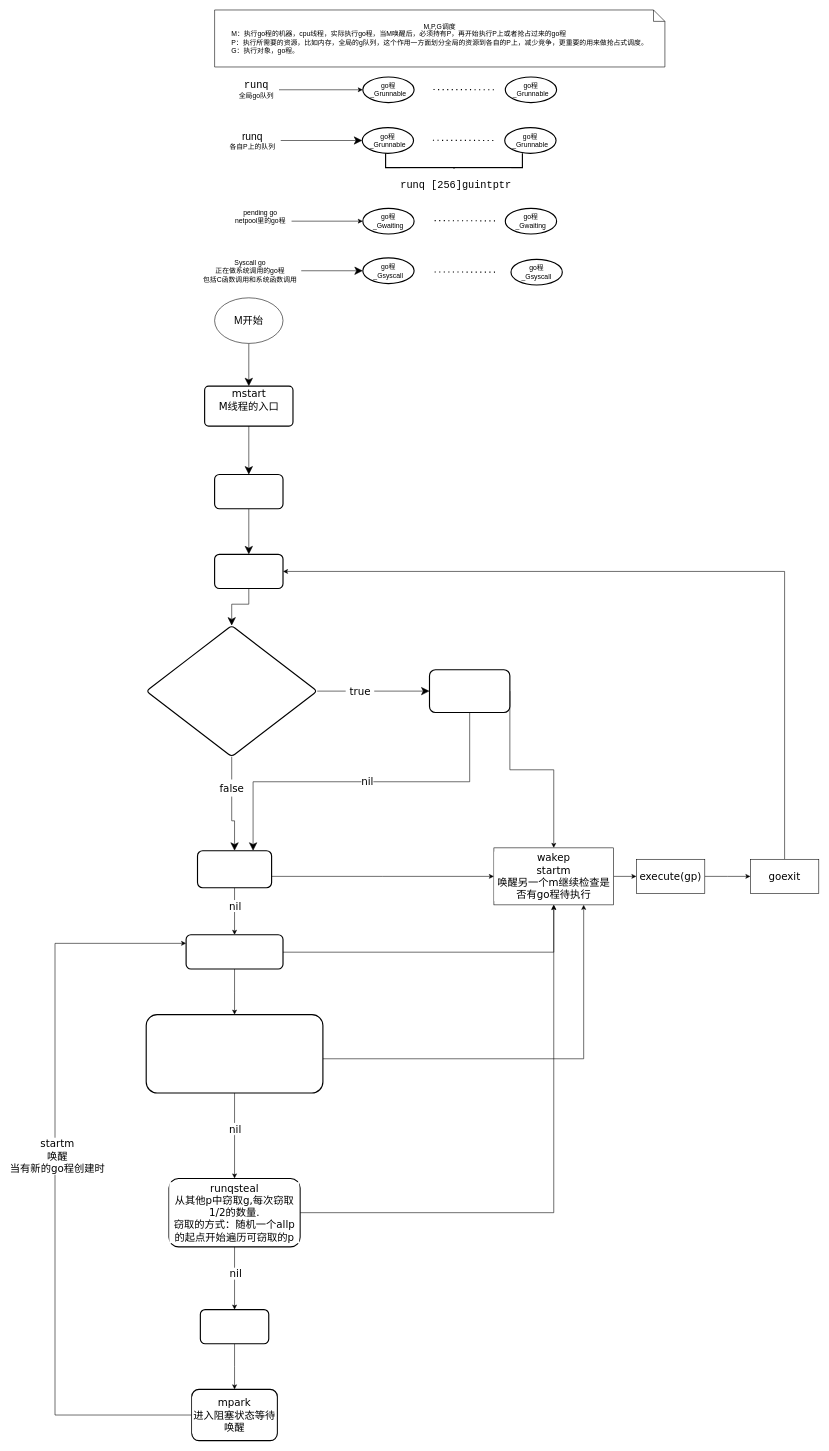
The diagram is 829 pixels wide and 1451 high, and some of its shapes have lost their labels. The shapes that lost their labels are listed below. From the top down, each one's centre as x and y in pixels, then its label:
At (248,491): "mstart1".
At (248,571): "schedule 调度函数".
At (231,691): "p.schedtick%61==0 p每调度61次".
At (469,691): "globrunqget 全局队列中获取".
At (234,869): "runqget 本地队列获取".
At (234,951): "findrunnable".
At (234,1053): "//本地队列 runqget //全局队列 globrunqget //netpoll中 netpoll".
At (234,1326): "stopm".
